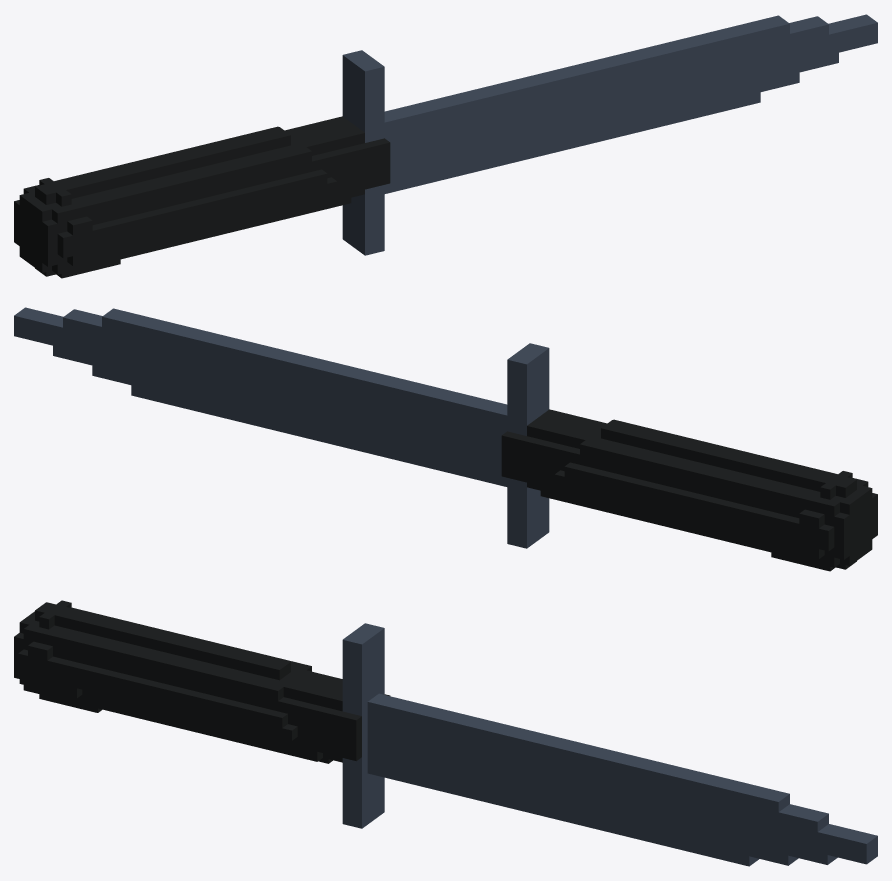
File: kabar.glb
The picture shows the model from 3 angles, top to bottom: view 1: azimuth 30°, elevation 25°; view 2: azimuth 150°, elevation 25°; view 3: azimuth 330°, elevation 25°; orthographic projection.
Parts seen in each view (by area): view 1: kabar:knife; view 2: kabar:knife; view 3: kabar:knife.
Boxes of the visible parts, box(x1,y1,x2,y2) form: kabar:knife: box(14, 14, 877, 278); kabar:knife: box(14, 307, 877, 571); kabar:knife: box(14, 600, 877, 866).
Bounding box in the file's own units: 0.344 × 0.072 × 0.032.
